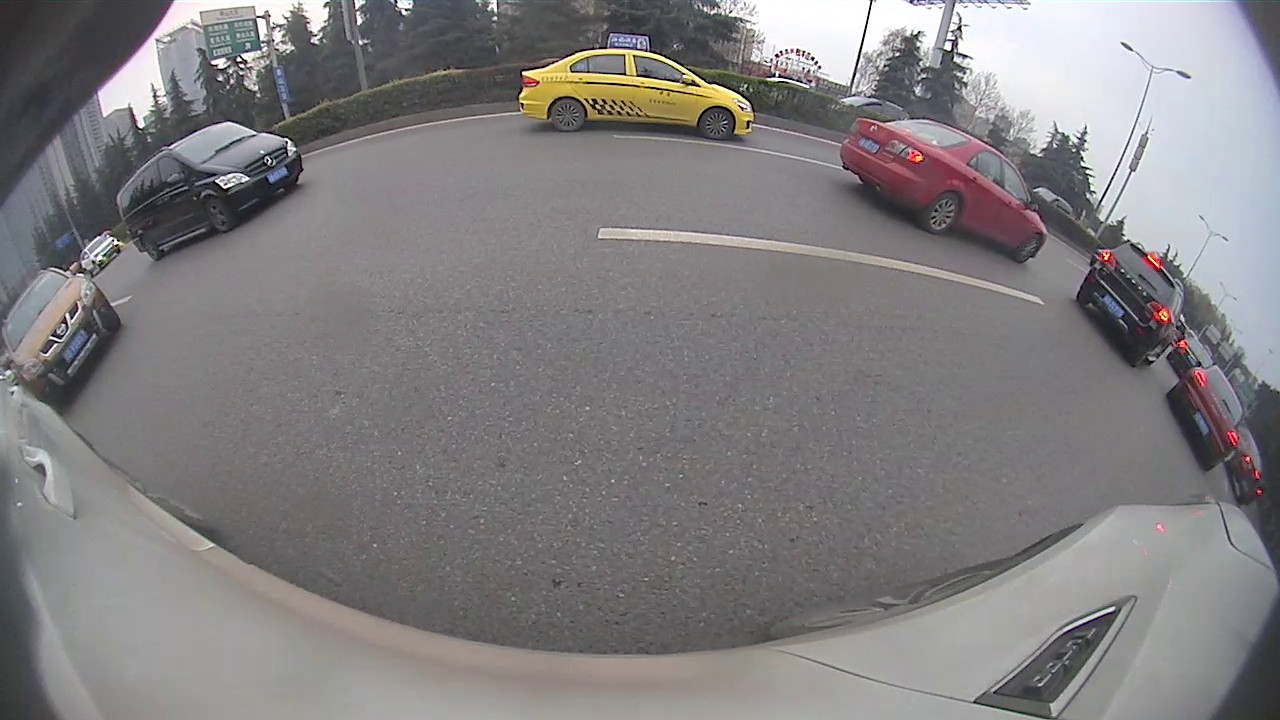car: (840, 112, 1049, 265), (115, 123, 305, 259), (517, 33, 755, 140), (3, 270, 120, 408), (1077, 238, 1187, 369), (1162, 358, 1245, 473), (81, 237, 123, 273)
front: (700, 106, 736, 141), (1011, 233, 1046, 263), (205, 197, 233, 230)
rear: (922, 194, 963, 232), (549, 97, 584, 131), (139, 233, 162, 261)
